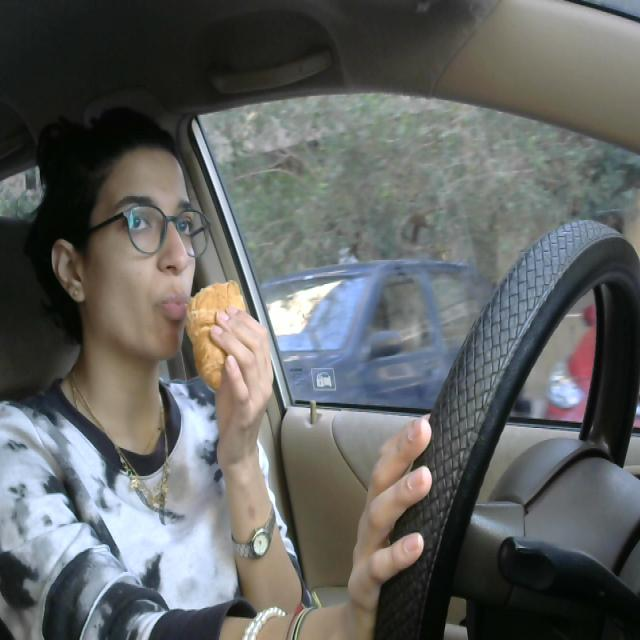eating: (176, 270, 255, 405)
